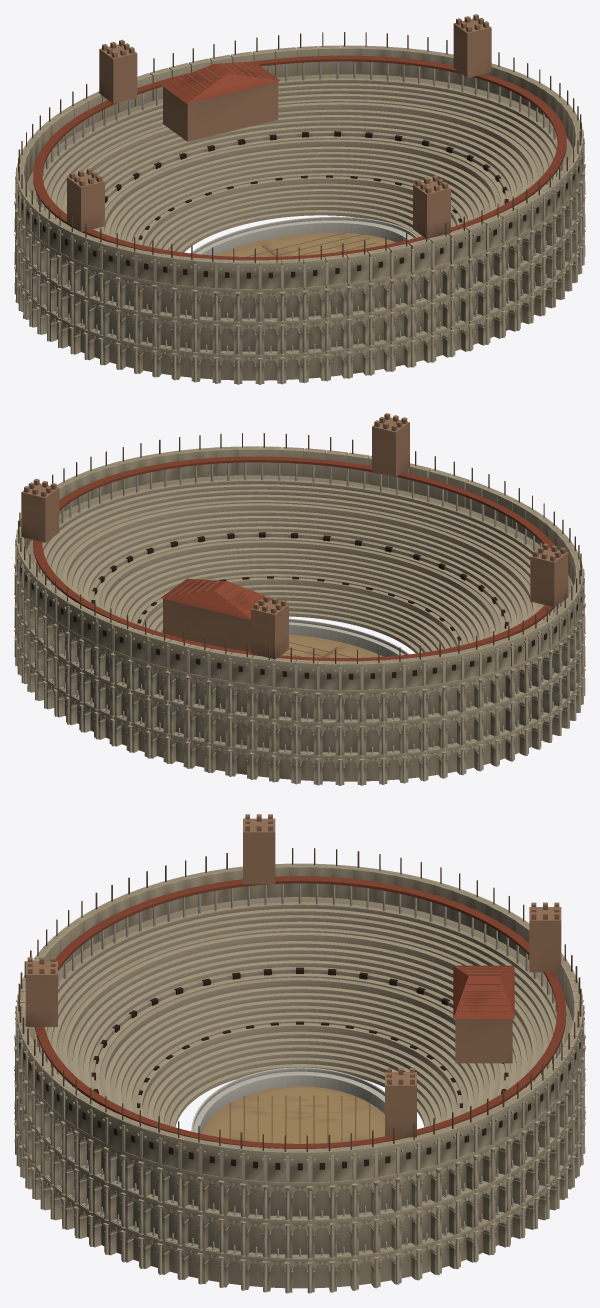
File: colosseum-fortress.glb
3 renders of one model, top to bottom at view 1: azimuth 30°, elevation 25°; view 2: azimuth 150°, elevation 25°; view 3: azimuth 270°, elevation 25°, orthographic. The views are drawn at different scales.
Visible parts, largest first — view 1: p2_storey1, p4_attic, p1_storey0, p3_storey2, p0_arena; view 2: p2_storey1, p4_attic, p1_storey0, p3_storey2, p0_arena; view 3: p2_storey1, p1_storey0, p4_attic, p3_storey2, p0_arena.
Boxes of the visible parts, <box> form: p2_storey1: <box>14,78,585,355</box>; p4_attic: <box>15,14,584,289</box>; p1_storey0: <box>14,131,585,384</box>; p3_storey2: <box>14,55,585,322</box>; p0_arena: <box>190,216,417,256</box>; p2_storey1: <box>14,479,585,756</box>; p4_attic: <box>15,413,584,690</box>; p1_storey0: <box>14,532,585,785</box>; p3_storey2: <box>14,456,585,723</box>; p0_arena: <box>281,618,409,657</box>; p2_storey1: <box>14,902,585,1259</box>; p1_storey0: <box>14,967,585,1293</box>; p4_attic: <box>15,814,584,1183</box>; p3_storey2: <box>14,876,585,1221</box>; p0_arena: <box>191,1067,384,1143</box>.
Bounding box in the file's own units: 193 × 60.68 × 160.
